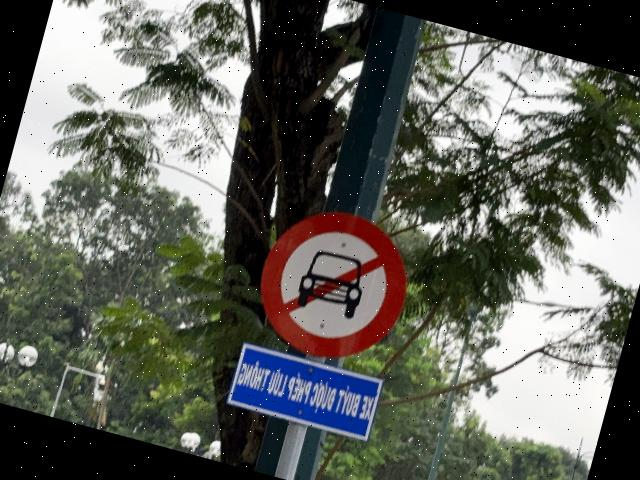cam-o-to: (246, 196, 423, 375)
